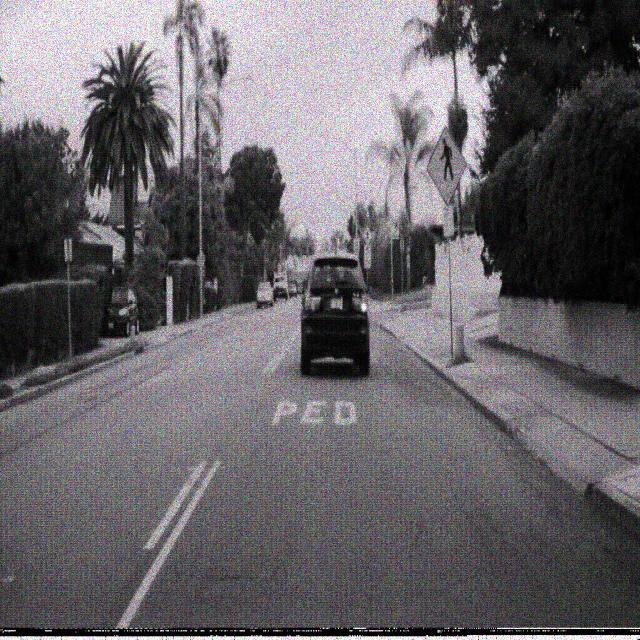pedestrianCrossing: (426, 125, 468, 206)
